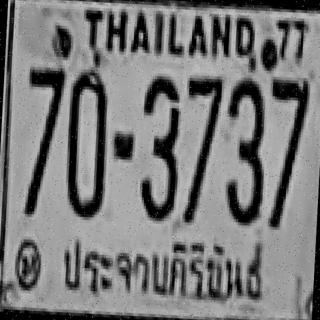N00: (62, 68, 109, 215)
N03: (222, 77, 266, 223), (136, 77, 180, 220)
N07: (23, 66, 65, 168), (268, 78, 310, 168), (23, 65, 65, 152), (183, 75, 222, 167), (183, 75, 222, 159)
P50: (55, 230, 271, 306)
